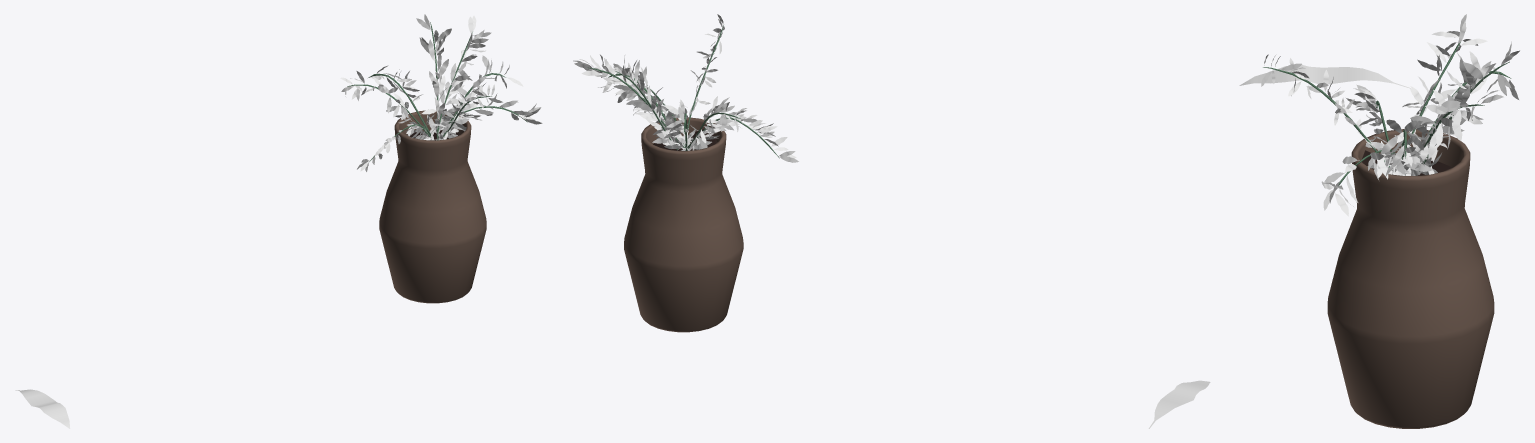
Rendered from Planta3.fbx.
3 renders of one model, left to right at view 1: azimuth 30°, elevation 25°; view 2: azimuth 150°, elevation 25°; view 3: azimuth 270°, elevation 25°, orthographic. The views are drawn at different scales.
Visible parts, largest first — view 1: Tiesto, Leaf; view 2: Tiesto, Leaf; view 3: Tiesto, Leaf, BezierCurve.005, Tierra.
Boxes of the visible parts, <box> form: Tiesto: <box>379,110,486,303</box>; Leaf: <box>15,389,70,428</box>; Tiesto: <box>624,117,743,332</box>; Leaf: <box>1148,380,1210,428</box>; Tiesto: <box>1327,129,1494,428</box>; Leaf: <box>1239,65,1410,88</box>; BezierCurve.005: <box>1263,67,1389,167</box>; Tierra: <box>1362,150,1451,175</box>.
Size of the model in its own units: 1278 by 579 by 391.
